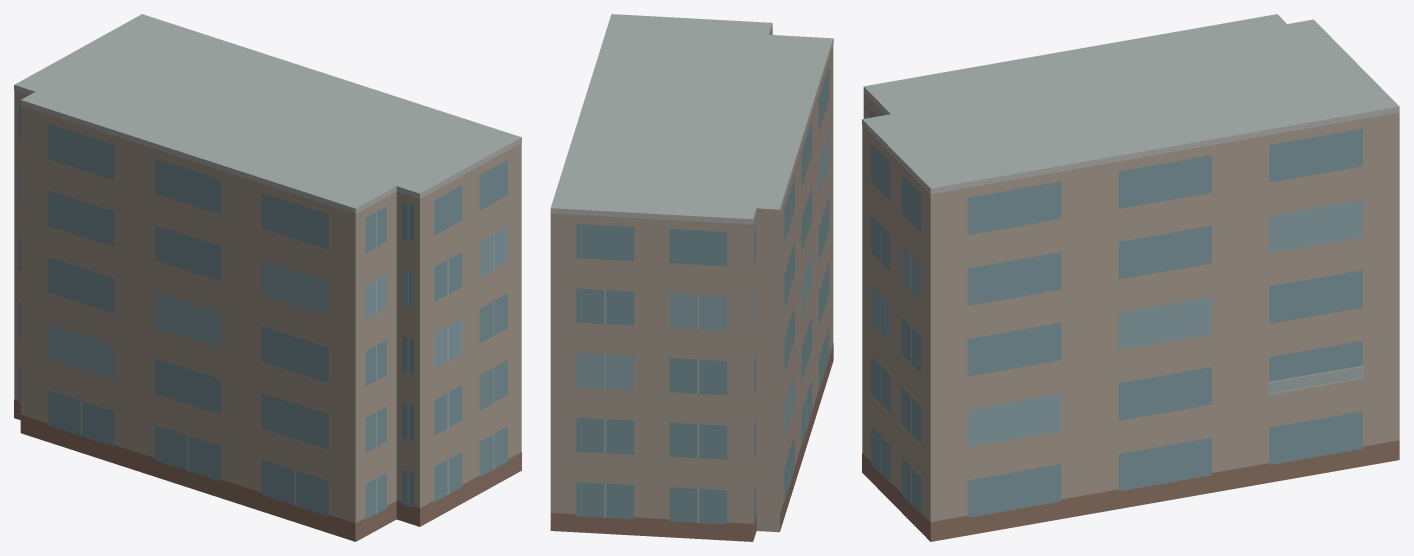
The model's file is survey-upis-33011906.glb.
The picture shows the model from 3 angles, left to right: view 1: azimuth 30°, elevation 25°; view 2: azimuth 150°, elevation 25°; view 3: azimuth 270°, elevation 25°; orthographic projection. The views are drawn at different scales.
Visible parts, largest first — view 1: survey-upis-33011906.tmp; view 2: survey-upis-33011906.tmp; view 3: survey-upis-33011906.tmp.
Boxes of the visible parts, left/top/right/bottom form: survey-upis-33011906.tmp: left=14, top=14, right=521, bottom=541; survey-upis-33011906.tmp: left=550, top=14, right=833, bottom=541; survey-upis-33011906.tmp: left=862, top=14, right=1399, bottom=541.
Bounding box in the file's own units: 16.01 × 15.1 × 20.83.
